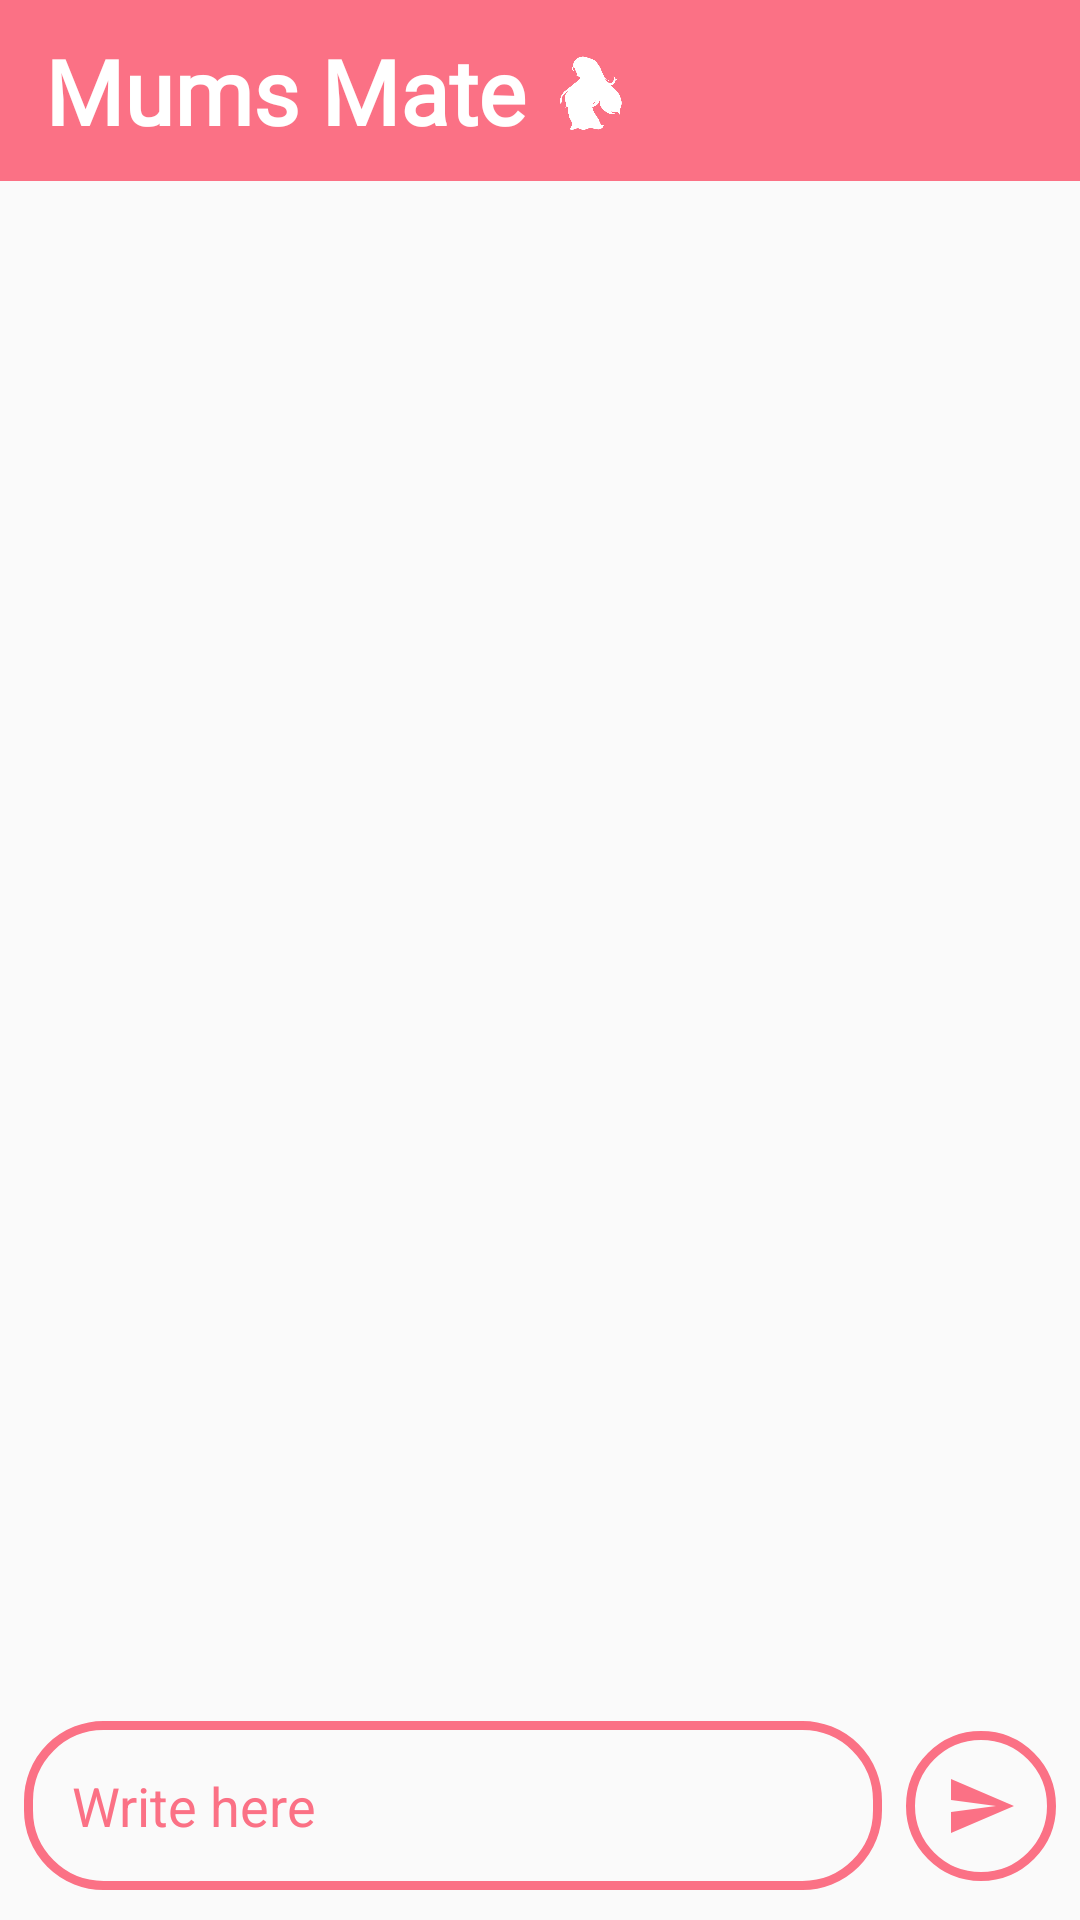

Where to tap for icons on this 1080 × 1920 app screen, as (x,y):
send message: (981,1806)
